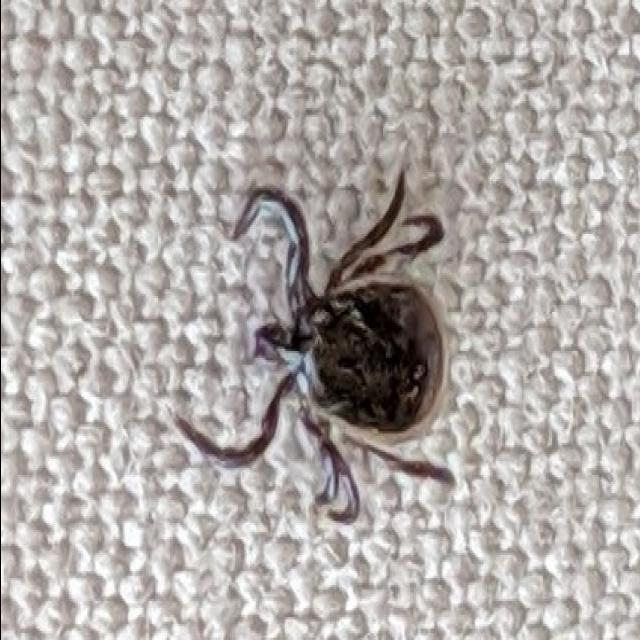Ixodes Ricinus-M: (178, 174, 450, 523)
